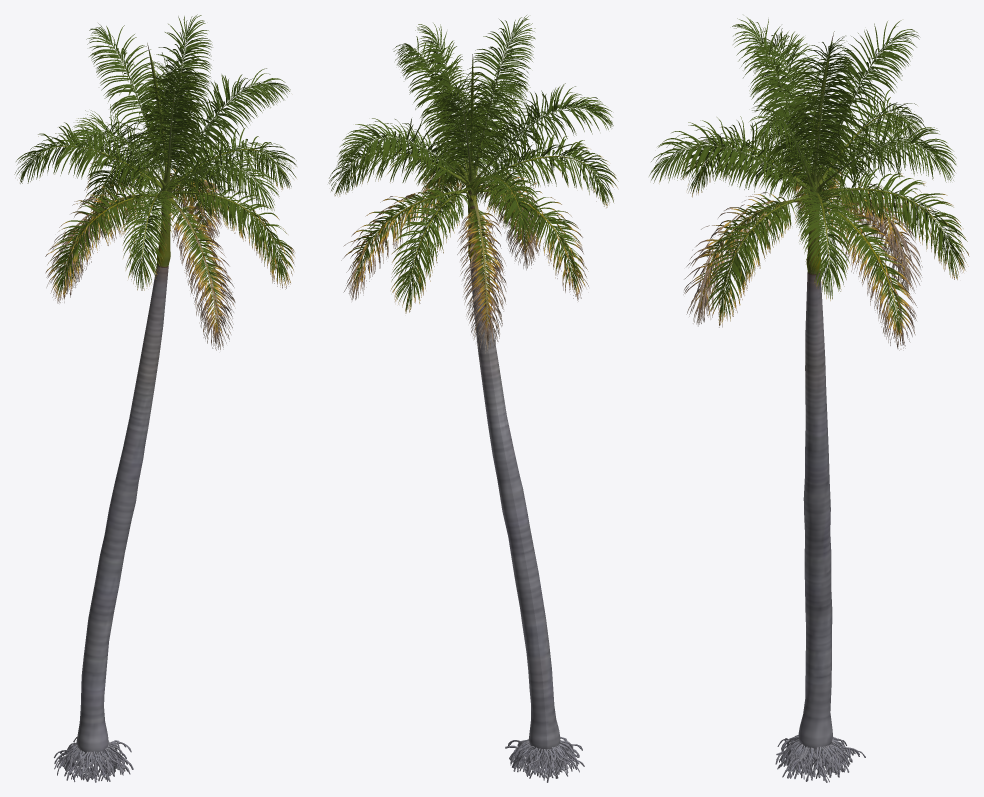
File: royal-palm.glb
The picture shows the model from 3 angles, left to right: view 1: azimuth 30°, elevation 25°; view 2: azimuth 150°, elevation 25°; view 3: azimuth 270°, elevation 25°; orthographic projection. The views are drawn at different scales.
Size of the model in its own units: 1.11 by 3 by 1.11.
Materials: 9 (9 with a texture image).
